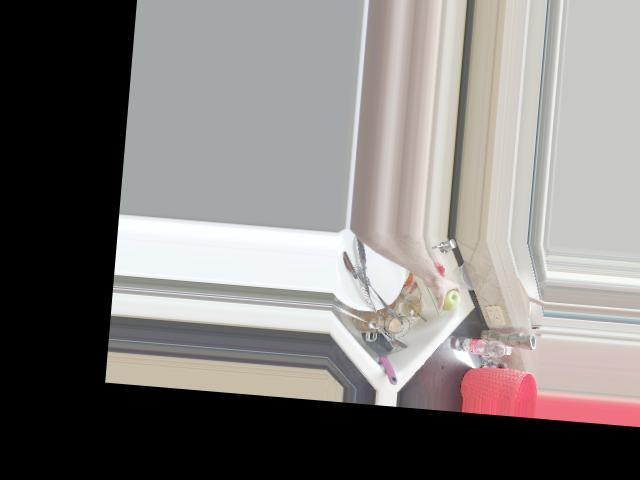apple: (436, 288, 463, 310)
